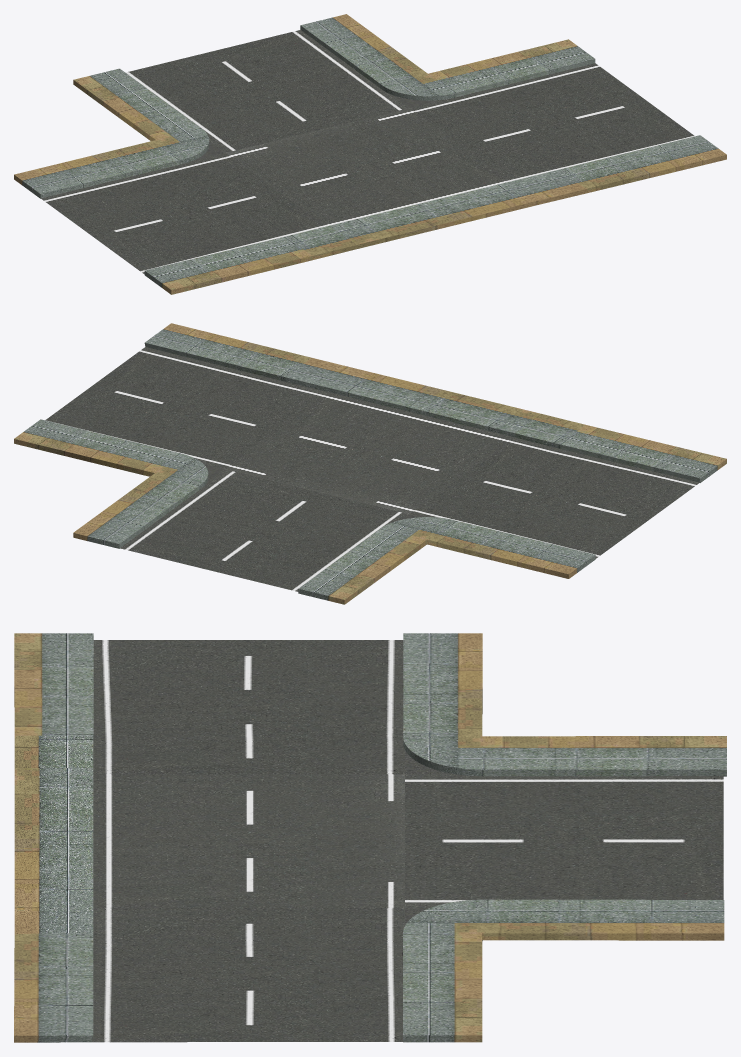
Rendered from road B.FBX.
3 renders of one model, top to bottom at view 1: azimuth 30°, elevation 25°; view 2: azimuth 150°, elevation 25°; view 3: azimuth 270°, elevation 25°, orthographic. The views are drawn at different scales.
Parts seen in each view (by area): view 1: Box002; view 2: Box002; view 3: Box002.
Part boxes in pixels (box(x1,y1,x2,y2)): Box002: box(14, 14, 726, 294); Box002: box(14, 323, 726, 604); Box002: box(14, 633, 726, 1042).
Size of the model in its own units: 300 by 2.5 by 225.
